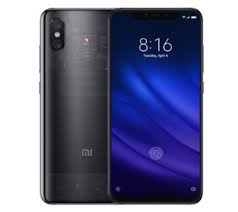mi: (104, 8, 205, 206)
